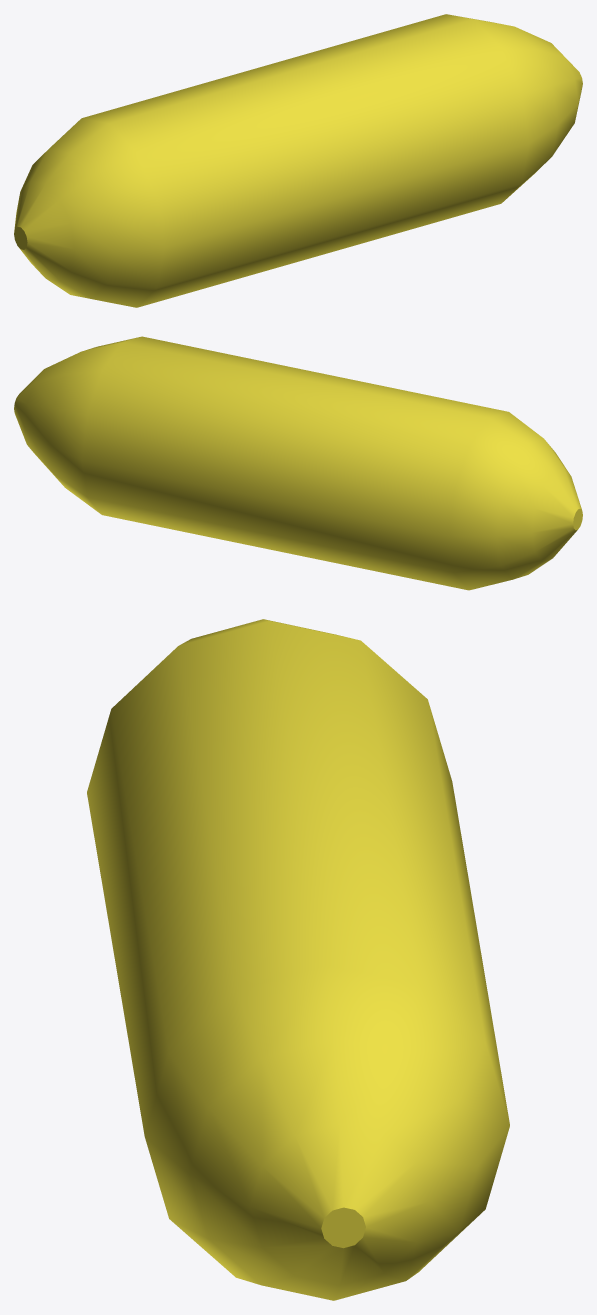
File: corn.fbx
3 views of the same model, one above another, from view 1: azimuth 30°, elevation 25°; view 2: azimuth 150°, elevation 25°; view 3: azimuth 270°, elevation 25° (orthographic). The views are drawn at different scales.
Visible parts, largest first — view 1: Corn; view 2: Corn; view 3: Corn.
Boxes of the visible parts, <box> form: Corn: <box>14,14,582,307</box>; Corn: <box>14,336,582,590</box>; Corn: <box>87,619,509,1300</box>.
Size of the model in its own units: 22.68 by 7.72 by 6.68.
